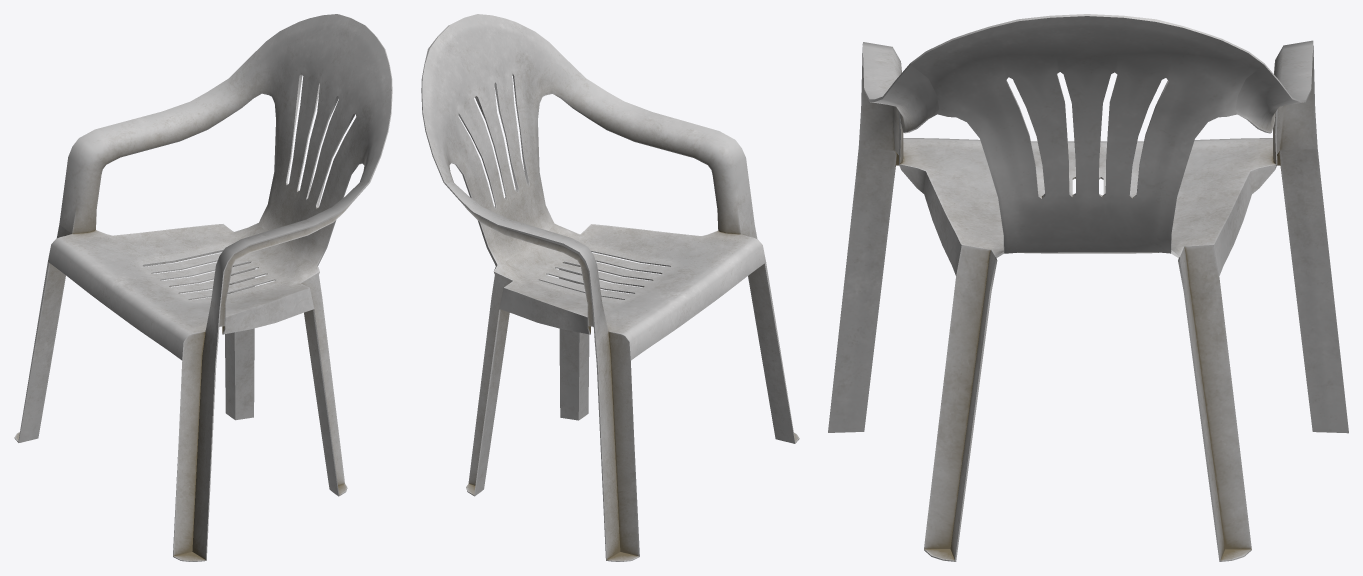
Rendered from SM_Chair02.fbx.
The picture shows the model from 3 angles, left to right: view 1: azimuth 30°, elevation 25°; view 2: azimuth 150°, elevation 25°; view 3: azimuth 270°, elevation 25°; orthographic projection. The views are drawn at different scales.
Visible parts, largest first — view 1: SM_Chair02_LOD0; view 2: SM_Chair02_LOD0; view 3: SM_Chair02_LOD0.
Part boxes in pixels (left/top/right/bottom): SM_Chair02_LOD0: left=14, top=14, right=392, bottom=561; SM_Chair02_LOD0: left=421, top=14, right=799, bottom=561; SM_Chair02_LOD0: left=828, top=14, right=1348, bottom=561.
Bounding box in the file's own units: 77.96 × 90.06 × 113.
Materials: 1 (1 with a texture image).
